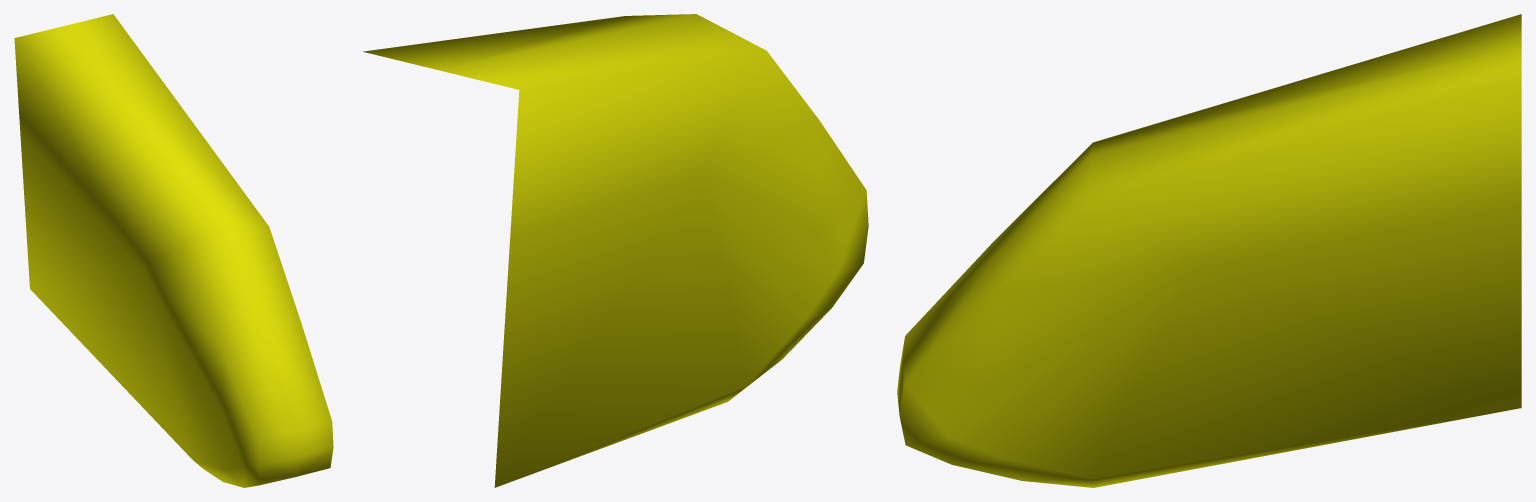
File: Nose_12.glb
3 renders of one model, left to right at view 1: azimuth 30°, elevation 25°; view 2: azimuth 150°, elevation 25°; view 3: azimuth 270°, elevation 25°, orthographic. The views are drawn at different scales.
Bounding box in the file's own units: 5.67 × 17.6 × 23.24.
